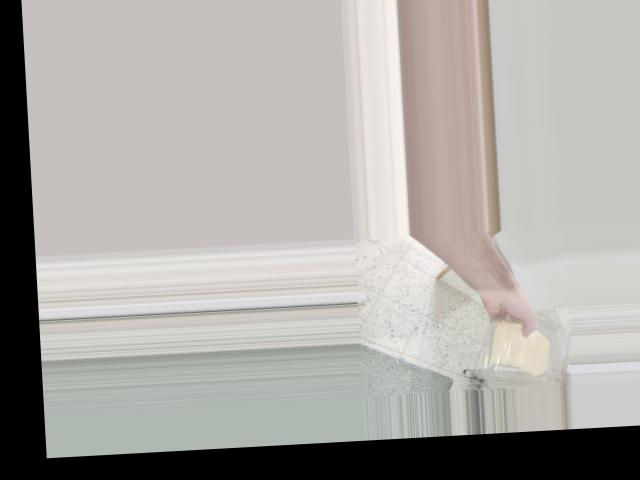cheese: (481, 315, 554, 383)
